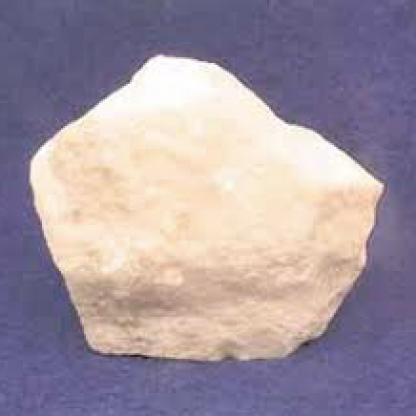Metamorphic_Marble: (21, 40, 389, 368)
